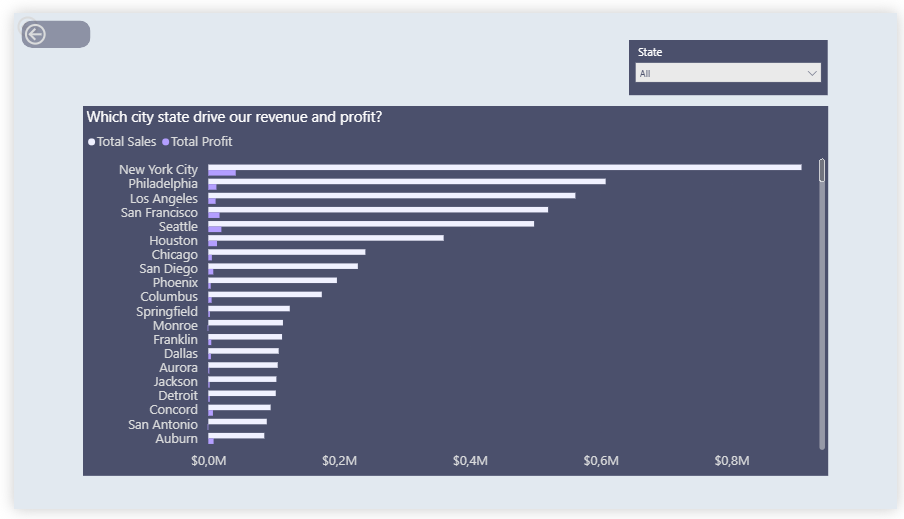

This screenshot's page, from the dashboard's own definition file:
{"tool":"powerbi","page":{"name":"Deep Dive Region","canvas":[1280,720],"ordinal":2},"visuals":[{"type":"clusteredBarChart","title":"Which city state drive our revenue and profit?","fields":{"Category":["Dim_Customer.City"],"Y":["_Measures.Total Sales","_Measures.Total Profit"]},"box":[100,134,1080,536],"z":0},{"type":"actionButton","box":[0,0,100,40],"z":1000},{"type":"slicer","title":"Slicer_Year","fields":{"Values":["Dim_Customer.State"]},"box":[892,40,288,80],"z":2000},{"type":"actionButton","box":[10,10,100,40],"z":3000}]}

Visuals, with their boxes in screenshot pixels (x1, y1, x2, y2), scaled from the page's 1280x720 canvas onto the 904x519 screenshot:
"Which city state drive our revenue and profit?" clusteredBarChart: [x1=71, y1=97, x2=833, y2=483]
actionButton: [x1=0, y1=0, x2=71, y2=29]
"Slicer_Year" slicer: [x1=630, y1=29, x2=833, y2=86]
actionButton: [x1=7, y1=7, x2=78, y2=36]
